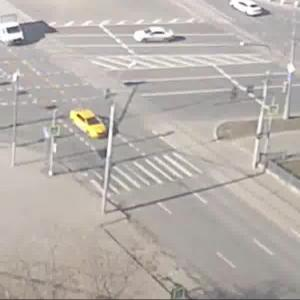car: (67, 105, 109, 140), (1, 1, 29, 42), (135, 28, 175, 47), (228, 1, 264, 19)
